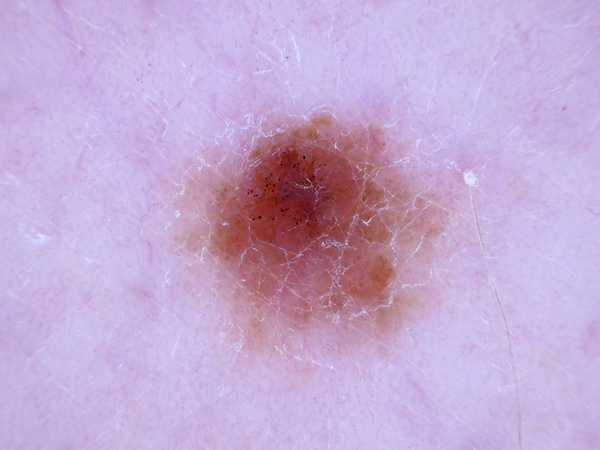Color changes: (280, 225, 326, 274)
